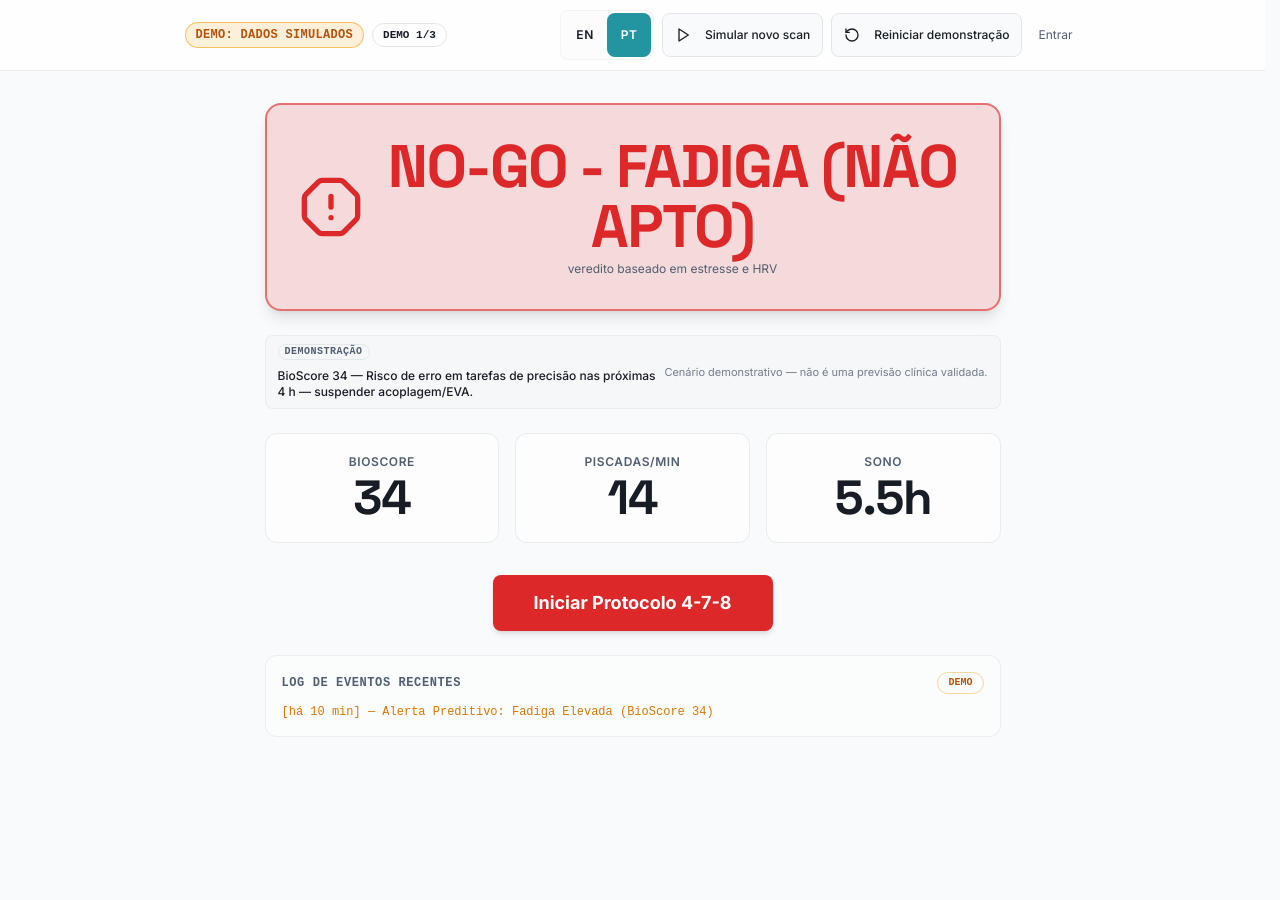
Scenario: Demo Page (/demo) - Demonstração Pública sem Login e sem Rede › Fluxos em Português (initialLang="pt") › PUB-03: clique em "Reiniciar demonstração" retorna à etapa 1 (NO-GO e BioScore 34)
Click the button "Simular novo scan". click: [743, 35]
box: [662,13,823,57]
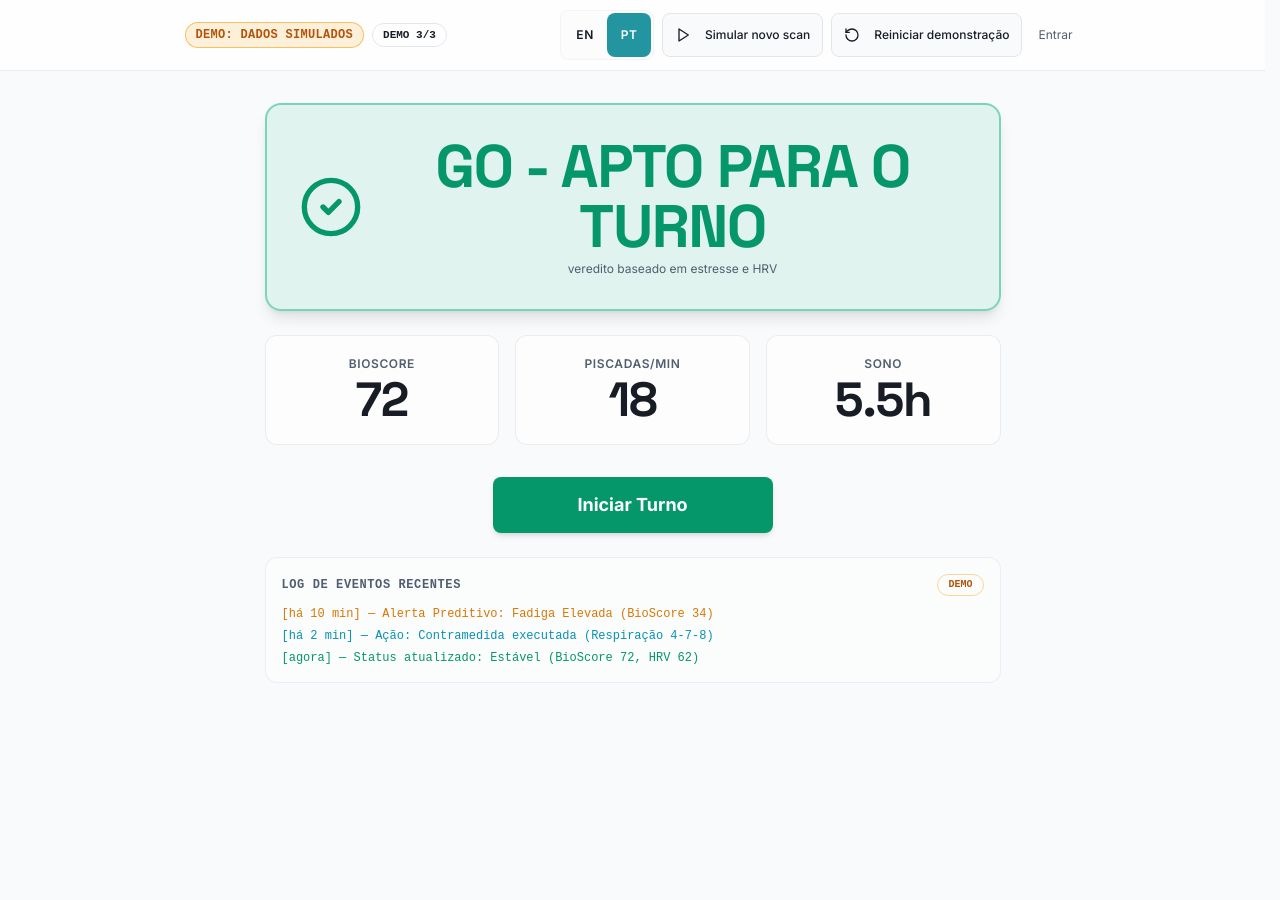
Check: the text "72" is shown, box [356,376,408,424]
Reiniciar demonstração
Click the button "Reiniciar demonstração". click: [927, 35]
box: [831,13,1022,57]
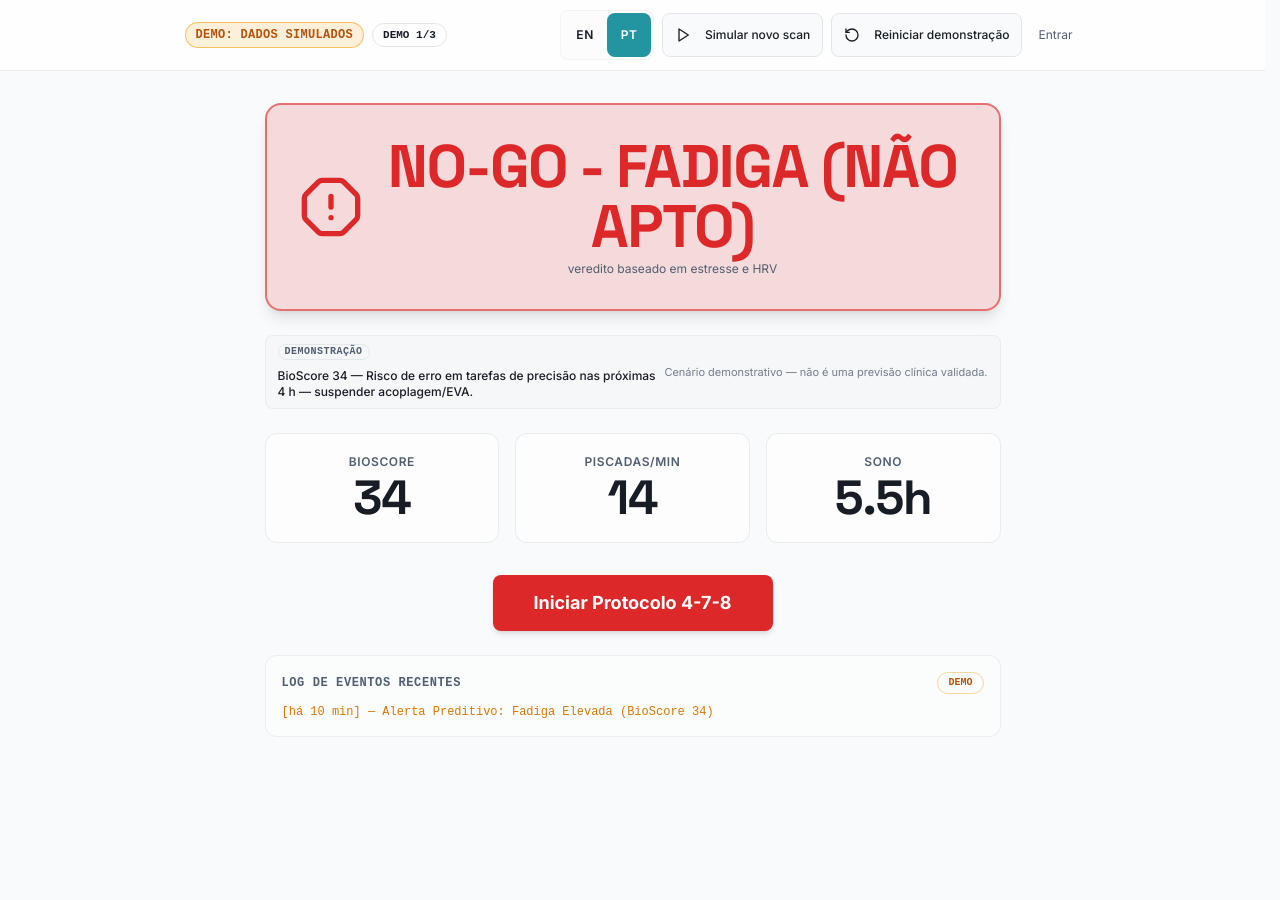
Check: the text "NO-GO - FADIGA (NÃO APTO)" is shown, box [378,137,966,257]
Check: the text "34" is shown, box [353,474,410,522]
Check: the text "14" is shown, box [608,474,657,522]
